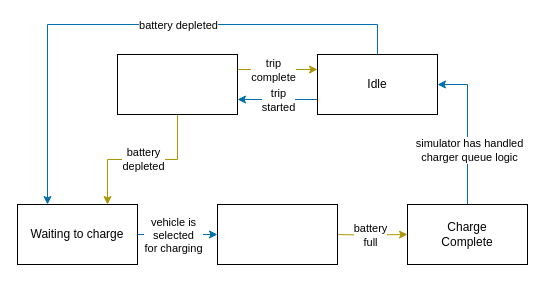
Some shapes in this 545 by 282 pixel diagram are drawn without their labels. The box of each missing label's shape, as (x1, y1, x2, y2) in pixels:
Charging: (216, 204, 338, 264)
Flying: (116, 54, 238, 114)
